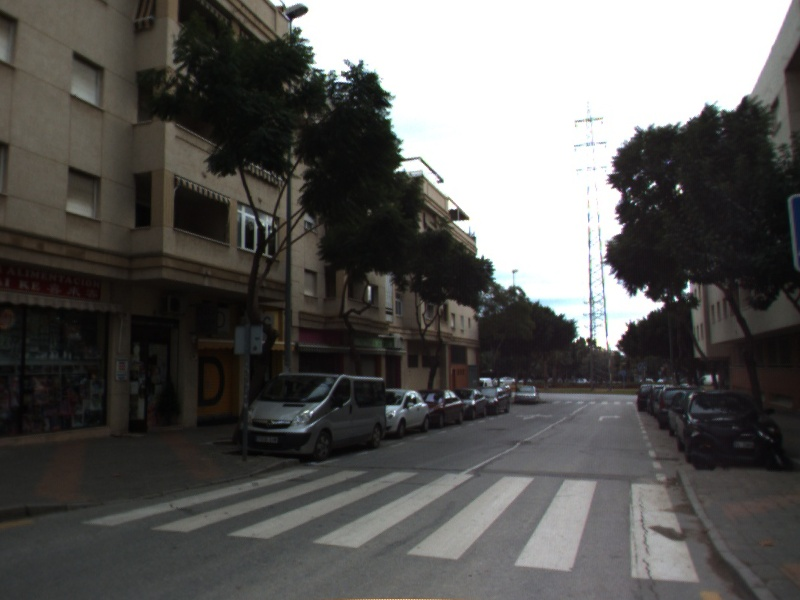RIGHT: (597, 413, 622, 423)
